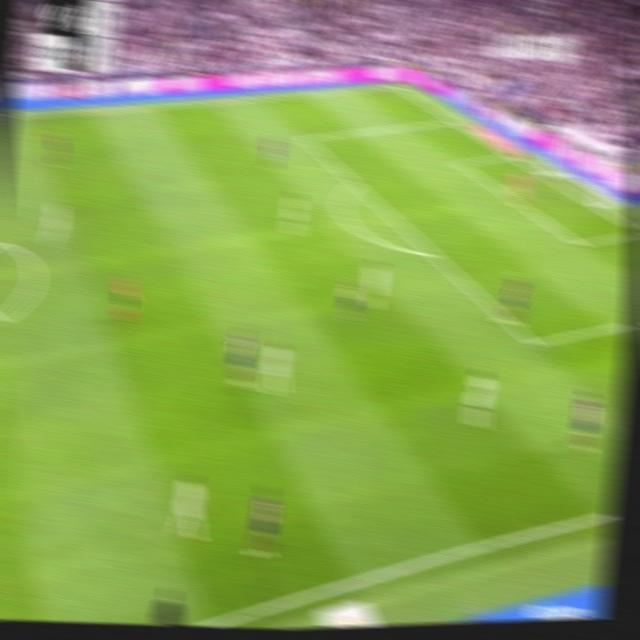bigarea_bottom_inner: (523, 330, 543, 355)
bigarea_top_inner: (299, 131, 312, 145)
bigarea_top_outter: (444, 113, 460, 125)
bottom_arc_area_intersection: (424, 244, 443, 263)
smallarea_bottom_inner: (571, 235, 587, 251)
smallarea_top_inner: (454, 157, 467, 168)
top_arc_area_intersection: (348, 175, 363, 190)
